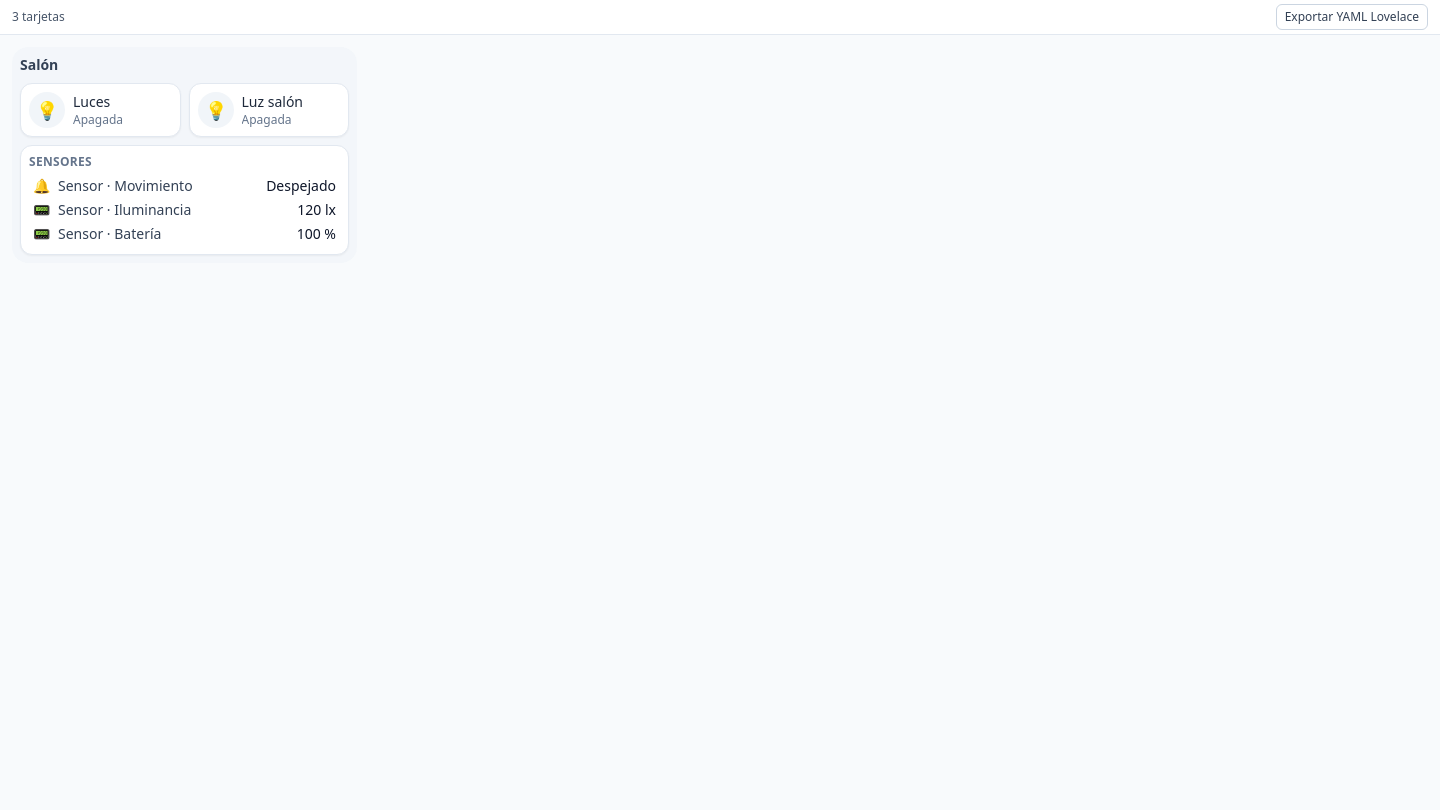
Test: DashboardView › abre «más información» con los controles existentes
Click the button titled "Más información": {"x": 291, "y": 110} [242,92,340,128]
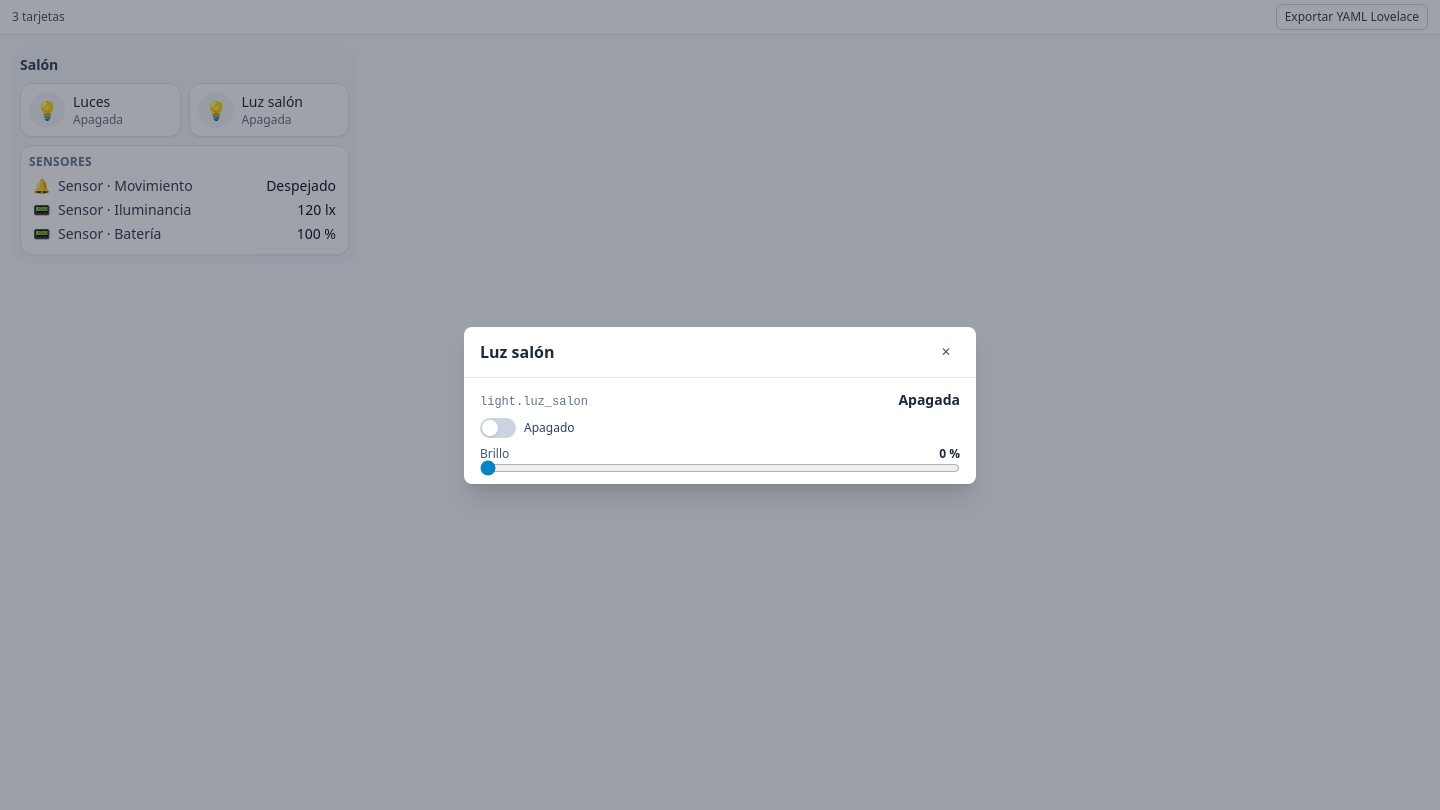
Expected: the dialog is shown, [464,326,976,484]
